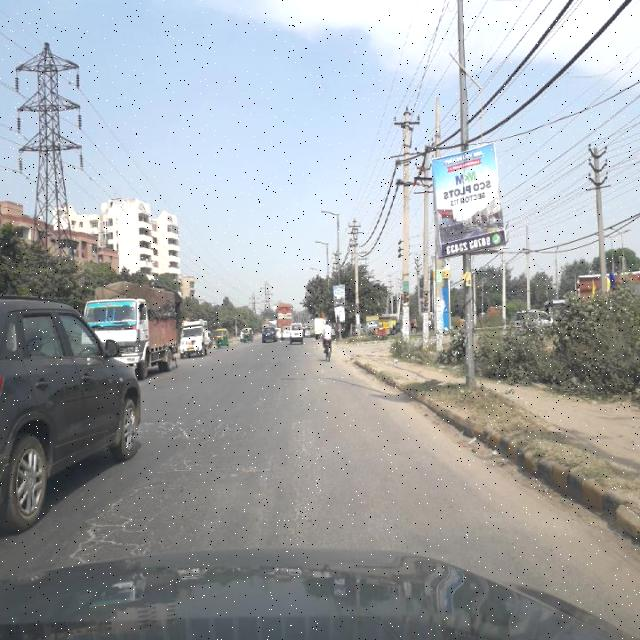D20: (77, 474, 184, 556), (287, 404, 333, 548), (151, 410, 236, 460)
